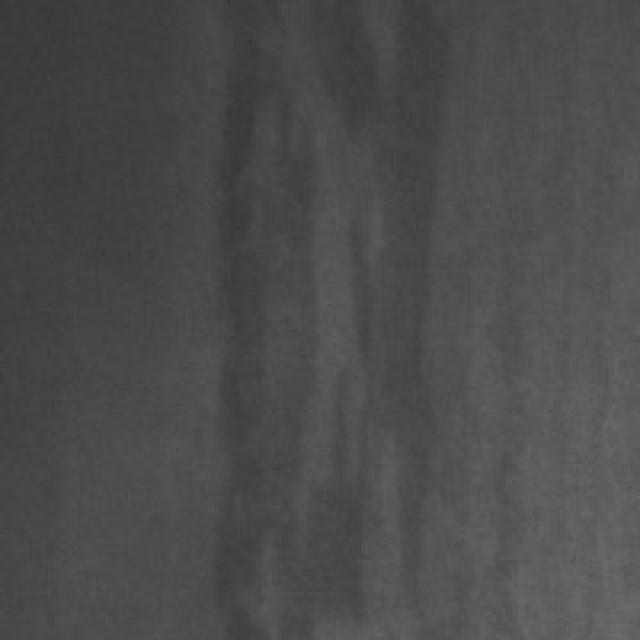inclusion: (218, 0, 444, 637)
